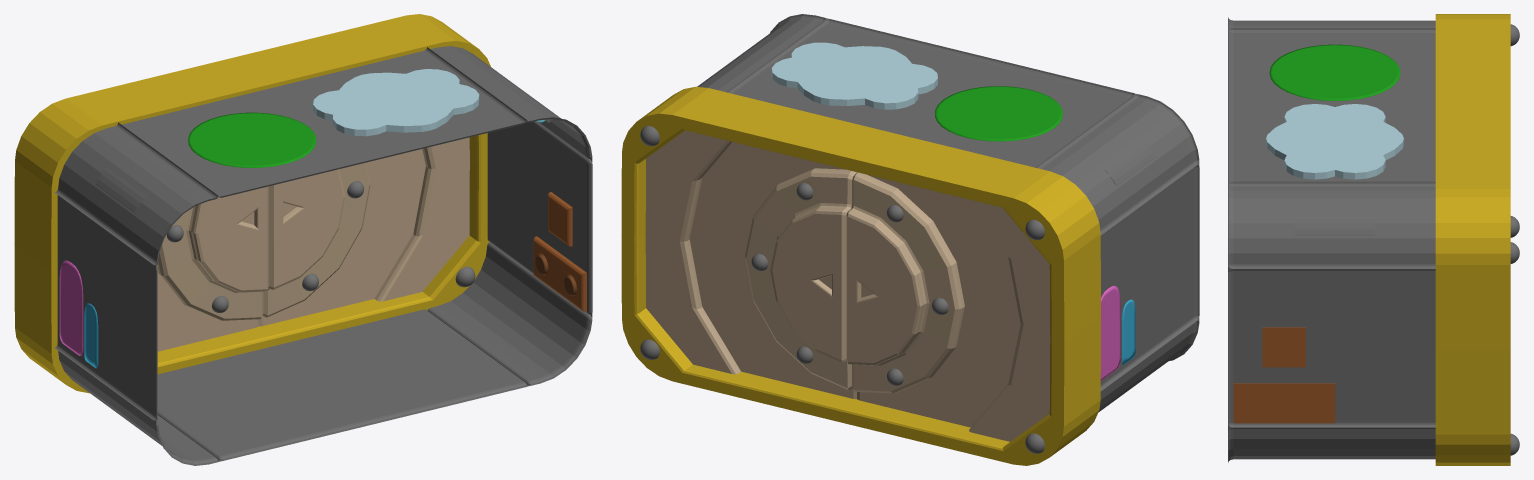
The model's file is Background Assets V2.fbx.
3 renders of one model, left to right at view 1: azimuth 30°, elevation 25°; view 2: azimuth 150°, elevation 25°; view 3: azimuth 270°, elevation 25°, orthographic.
Parts seen in each view (by area): view 1: A Main Body, E DoorFrame A, E Door R, E Door L, H Vent, D Capsule, C Big Wall Board, F Brick, E DoorFrame B, B Light Holder, G Bigger Bricks, C Small Wall Board; view 2: E DoorFrame A, A Main Body, E Door R, E Door L, H Vent, D Capsule, E DoorFrame B, C Big Wall Board, E DoorFrame Bolts, B Light Holder, C Small Wall Board, E DoorBolts L (+1 smaller); view 3: A Main Body, E DoorFrame A, H Vent, D Capsule, F Brick, G Bigger Bricks, B Light Holder, E DoorFrame Bolts.
Part boxes in pixels (x1,y1,x2,y2): A Main Body: (55, 46, 592, 465); E DoorFrame A: (14, 14, 490, 393); E Door R: (258, 137, 469, 326); E Door L: (156, 186, 268, 351); H Vent: (313, 69, 479, 136); D Capsule: (188, 112, 316, 167); C Big Wall Board: (59, 260, 83, 355); F Brick: (533, 236, 586, 311); E DoorFrame B: (157, 137, 470, 357); B Light Holder: (95, 73, 550, 212); G Bigger Bricks: (548, 192, 572, 246); C Small Wall Board: (84, 303, 98, 368); E DoorFrame A: (621, 86, 1100, 465); A Main Body: (697, 14, 1199, 412); E Door R: (645, 130, 856, 399); E Door L: (846, 172, 1050, 441); H Vent: (771, 42, 937, 109); D Capsule: (935, 86, 1062, 141); E DoorFrame B: (644, 159, 1009, 442); C Big Wall Board: (1100, 285, 1120, 380); E DoorFrame Bolts: (640, 125, 1044, 453); B Light Holder: (711, 46, 1155, 185); C Small Wall Board: (1122, 299, 1135, 364); E DoorBolts L: (886, 205, 948, 385); A Main Body: (1228, 17, 1435, 462); E DoorFrame A: (1435, 14, 1510, 465); H Vent: (1266, 104, 1403, 179); D Capsule: (1269, 44, 1400, 100); F Brick: (1233, 383, 1335, 423); G Bigger Bricks: (1262, 327, 1305, 367); B Light Holder: (1295, 216, 1374, 235); E DoorFrame Bolts: (1510, 24, 1519, 455).
Size of the model in its own units: 7169 by 4160 by 4012.
